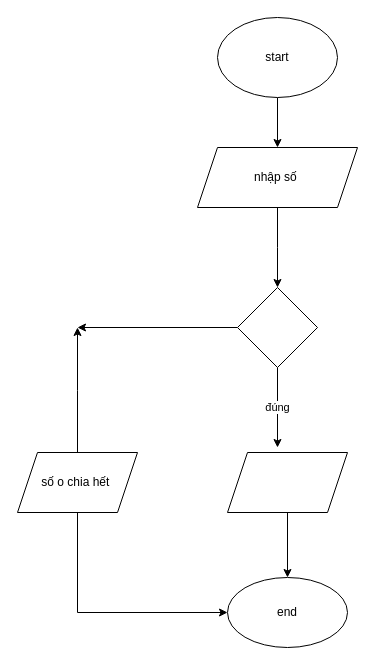
Image size: 375x665. Some labels were removed from this diagram. Here are the shapes that lost their labels. From the top down, the centre of each, then its label:
(x=277, y=327): số chia hết cho 3 và 5
(x=287, y=482): số chia hết
